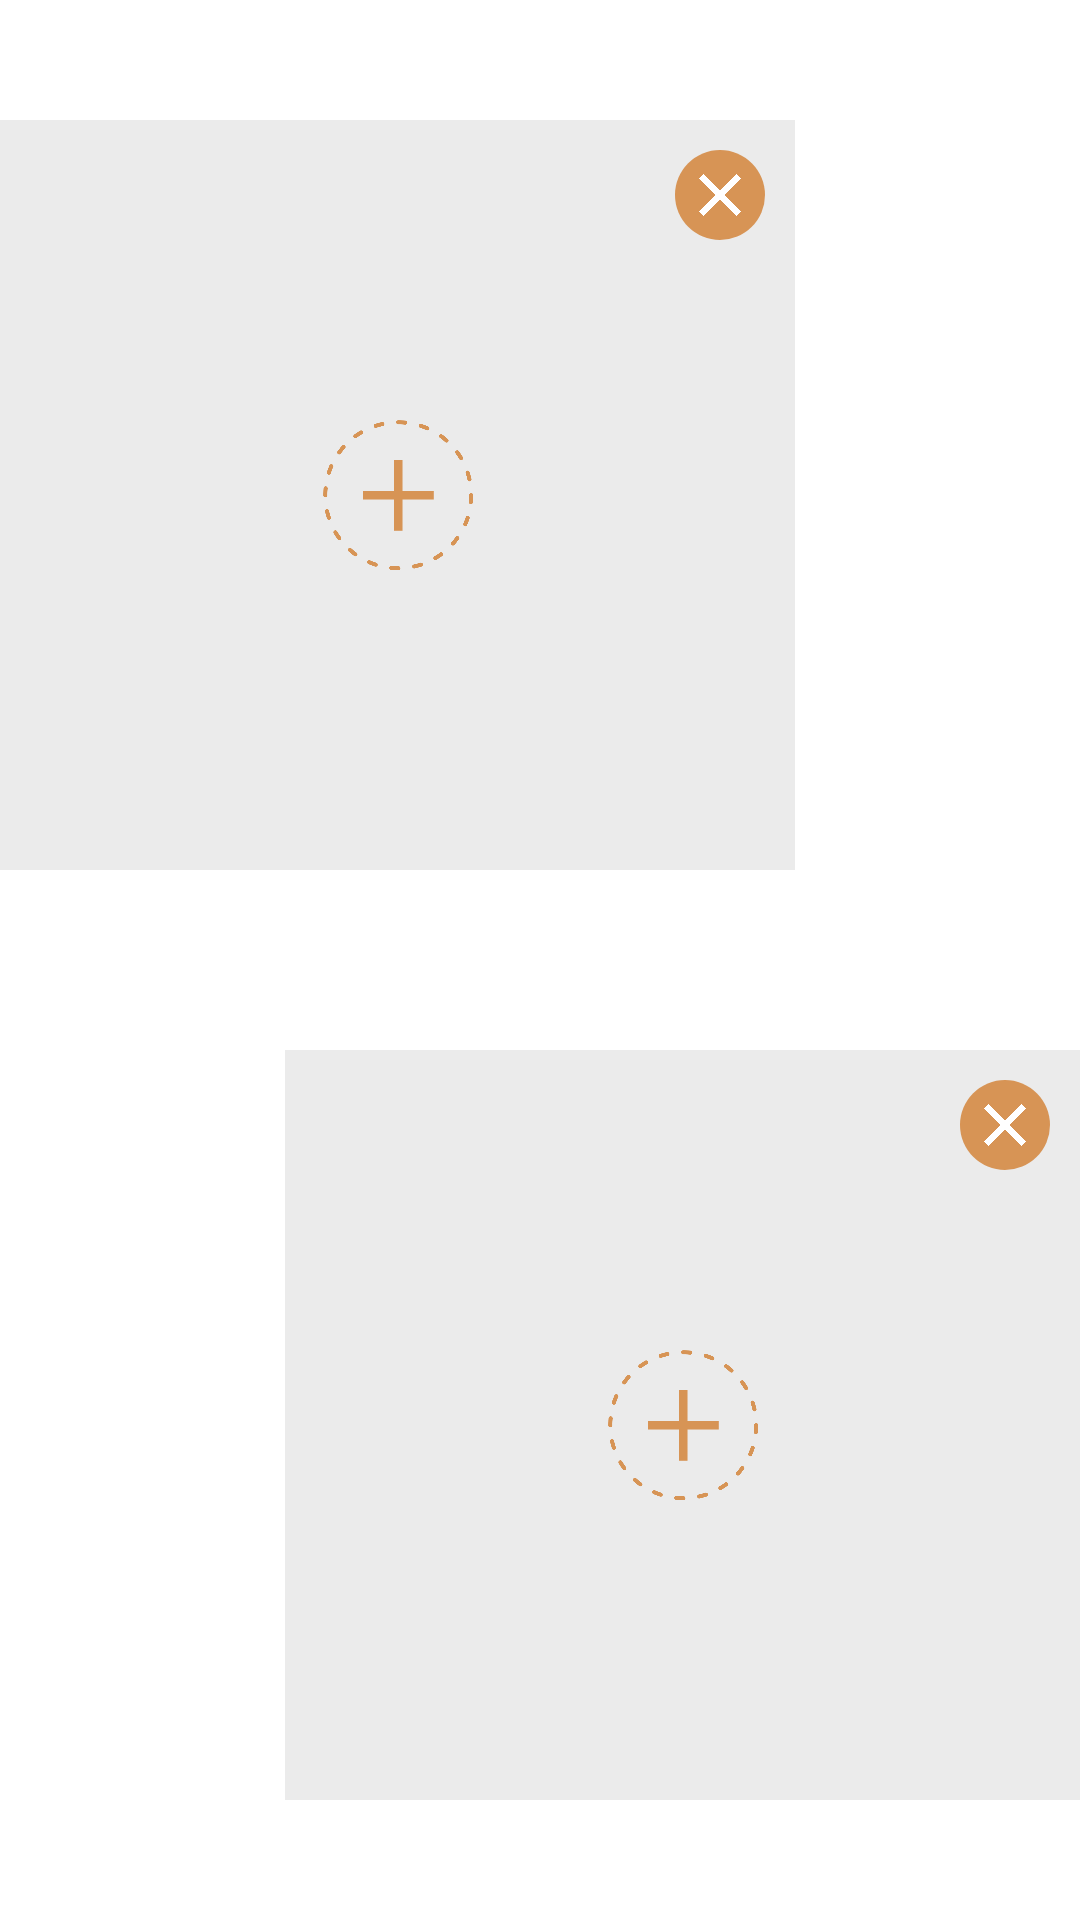

Where icons sit on this 1080 × 1920 app screen, as region(x1, y1, x2, y2):
add story: region(323, 420, 473, 570), region(608, 1350, 758, 1500)
